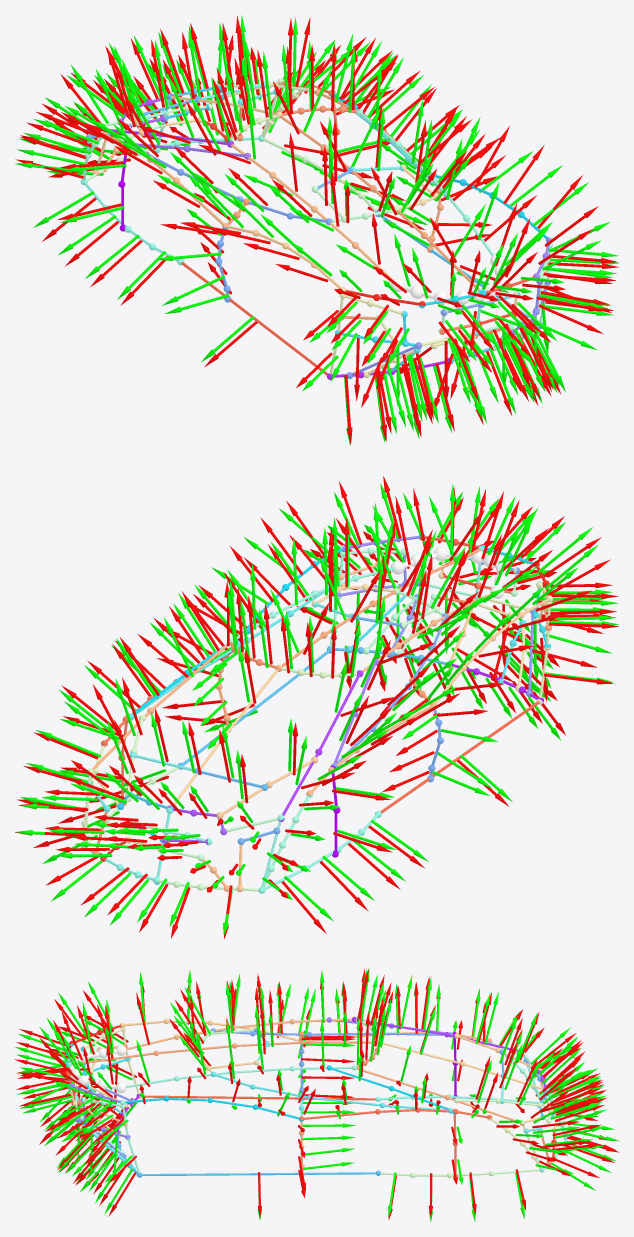
File: ils_car3.gltf
The picture shows the model from 3 angles, top to bottom: view 1: azimuth 30°, elevation 25°; view 2: azimuth 150°, elevation 25°; view 3: azimuth 270°, elevation 25°; orthographic projection. The views are drawn at different scales.
Size of the model in its own units: 0.5541 by 0.372 by 1.11.
